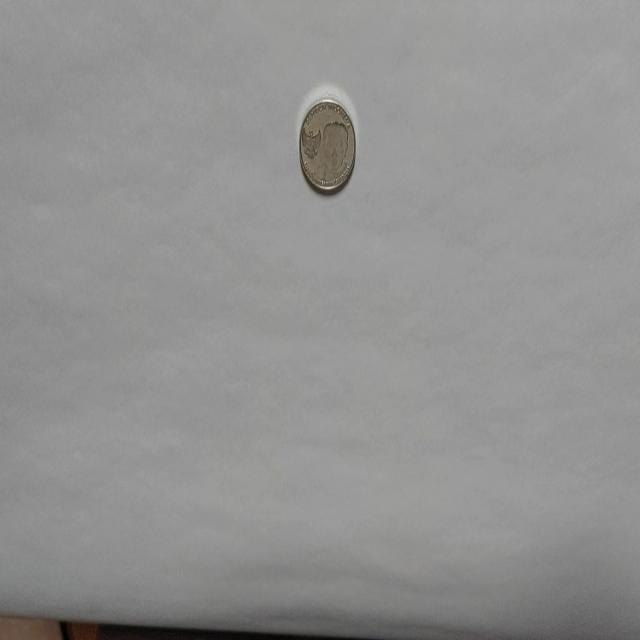seratus rupiah: (298, 96, 356, 194)
